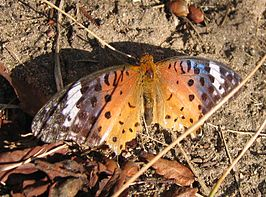Argyreus hyperbius: (28, 45, 236, 155)
butterfly: (30, 47, 238, 157)
